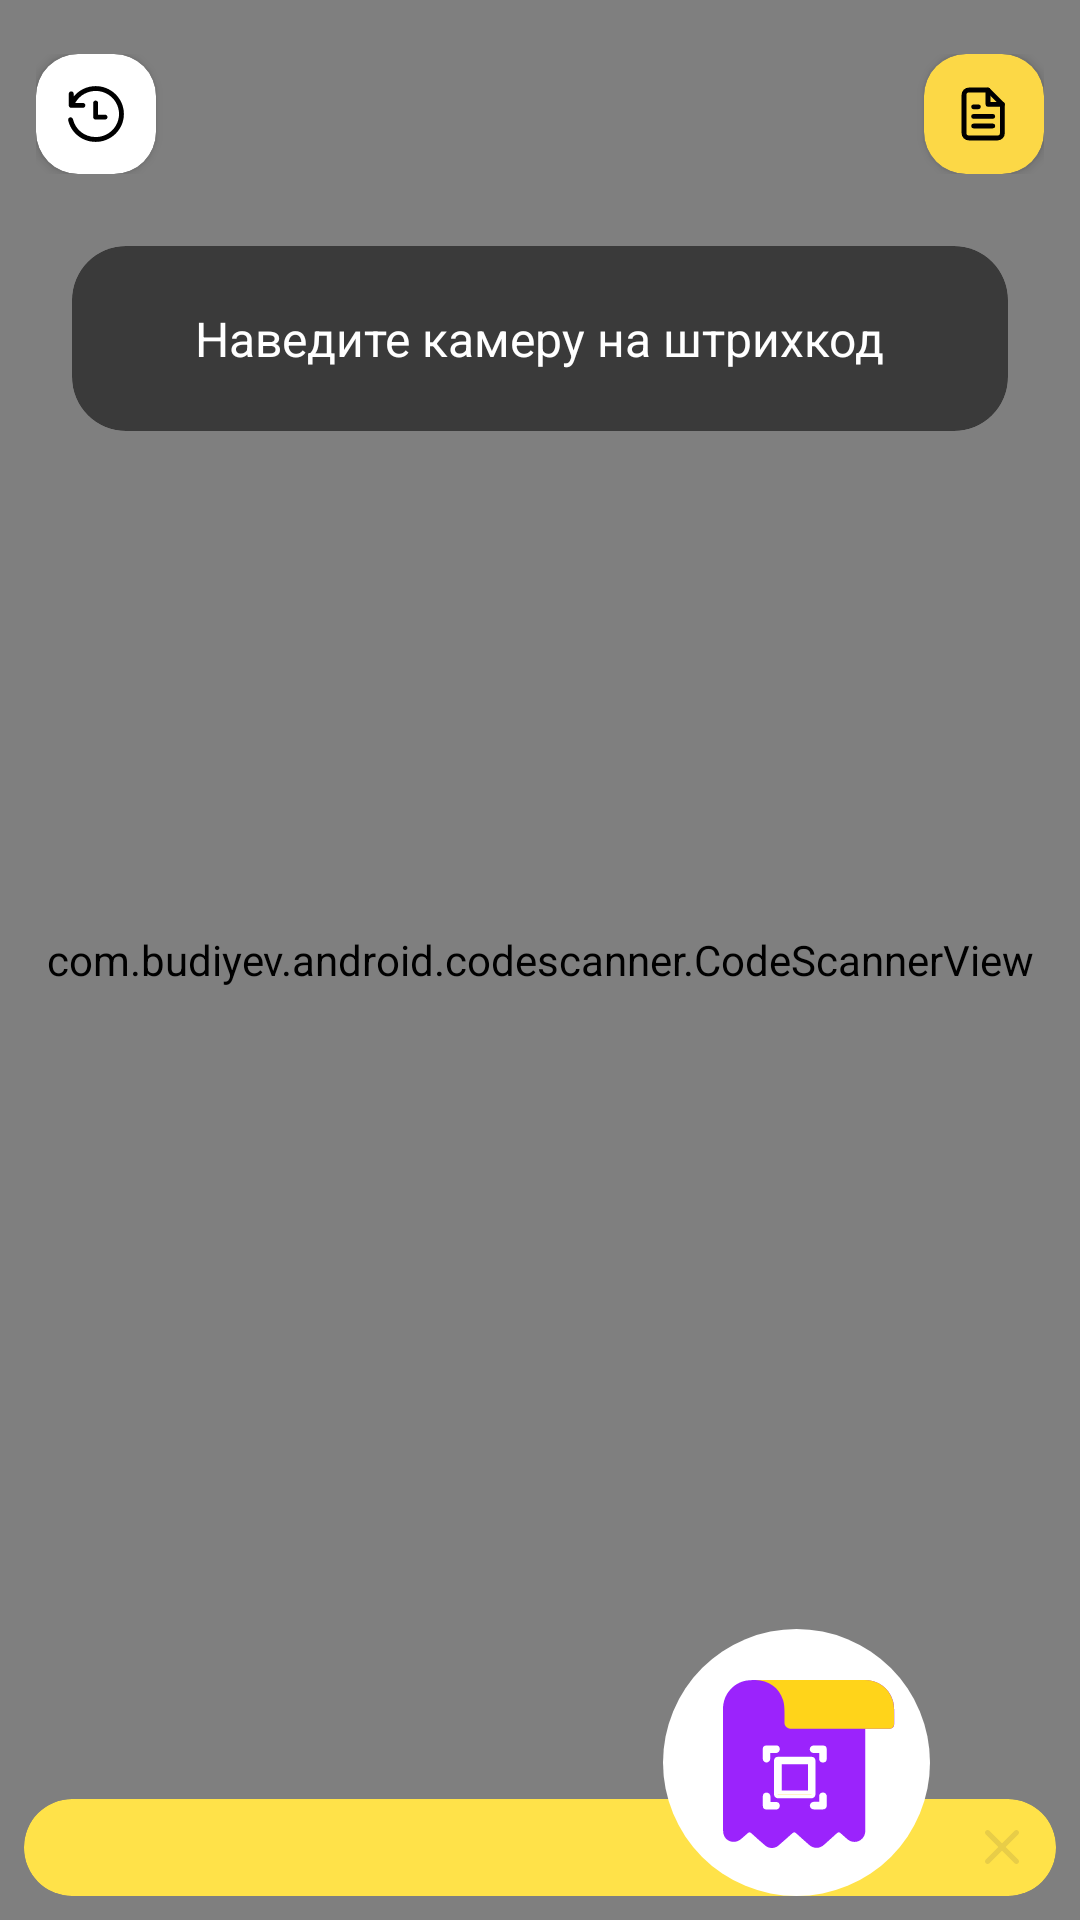

Locate icon controls on the screen. Image size 1080w x 1920h, boxes as [x1, y1, x2, y2].
document: [961, 87, 1005, 141]
history: [68, 86, 124, 142]
